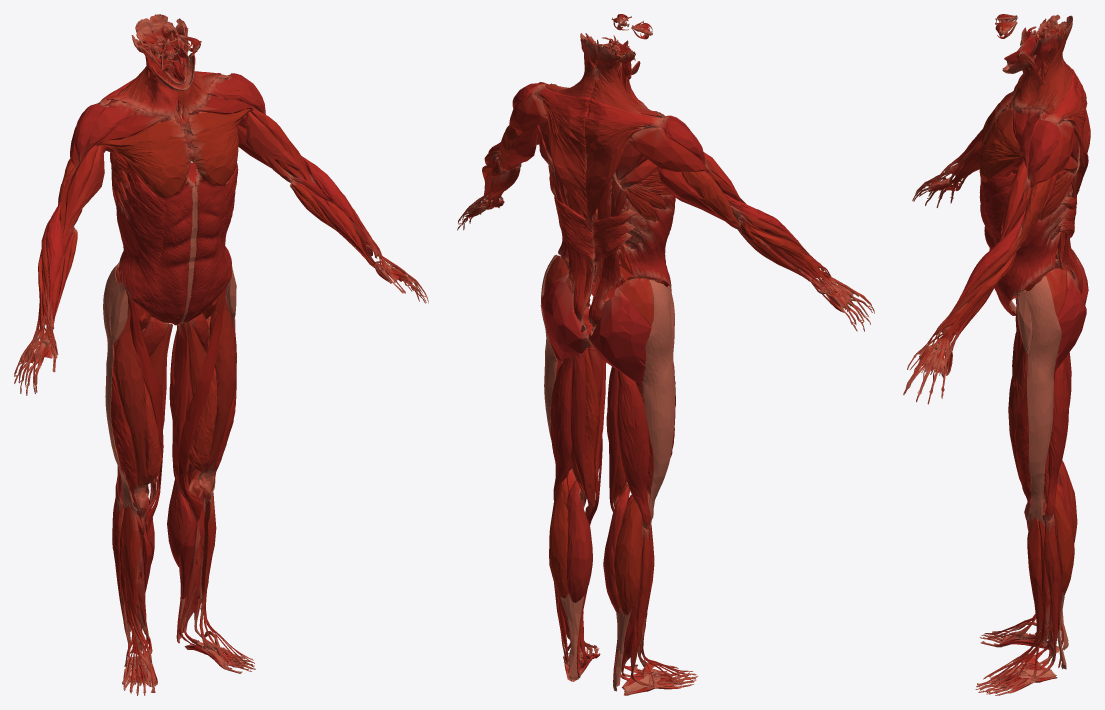
Rendered from muscles.glb.
The picture shows the model from 3 angles, left to right: view 1: azimuth 30°, elevation 25°; view 2: azimuth 150°, elevation 25°; view 3: azimuth 270°, elevation 25°; orthographic projection. The views are drawn at different scales.
Visible parts, largest first — view 1: muscle; view 2: muscle; view 3: muscle.
Part boxes in pixels (box(x1,y1,x2,y2)): muscle: box(14, 14, 428, 695); muscle: box(457, 14, 874, 695); muscle: box(903, 14, 1090, 695).
Size of the model in its own units: 983 by 1513 by 398.
